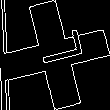L_W: (26, 34, 84, 76)
